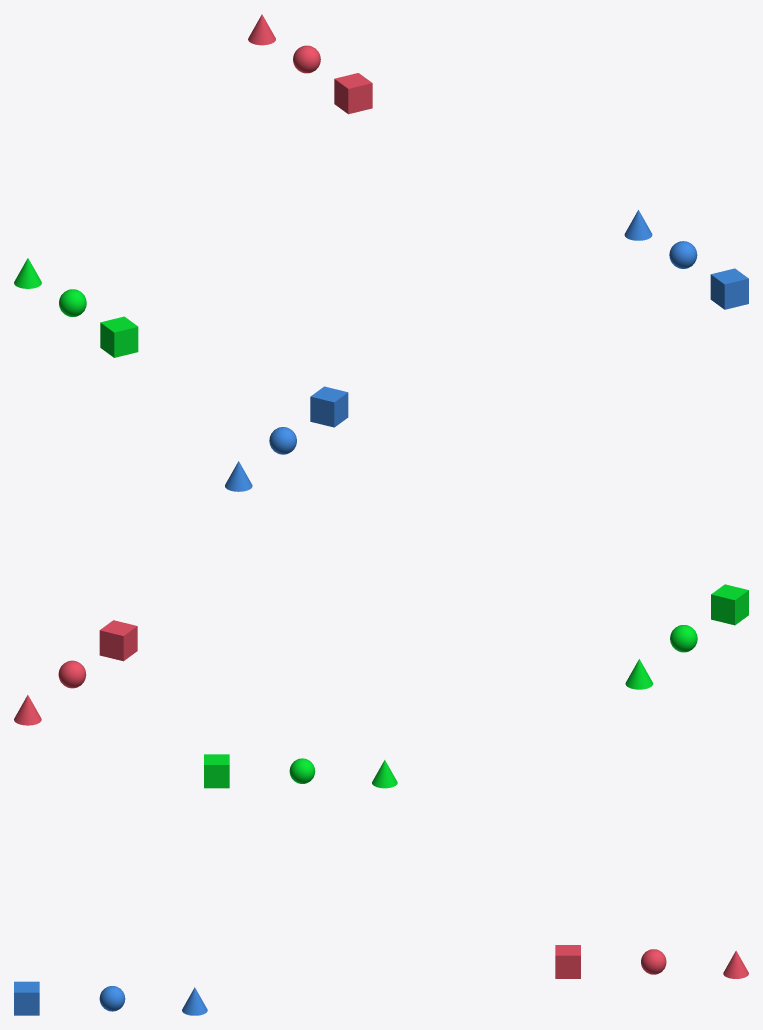
3 renders of one model, top to bottom at view 1: azimuth 30°, elevation 25°; view 2: azimuth 150°, elevation 25°; view 3: azimuth 270°, elevation 25°, orthographic. The views are drawn at different scales.
Parts seen in each view (by area): view 1: Cube.2, Cube.1, Cube, Sphere.2, Sphere.1, Sphere; view 2: Cube.1, Cube.2, Cube, Sphere.1, Sphere.2, Sphere; view 3: Cube.1, Cube, Cube.2, Sphere.2, Sphere.1, Sphere.
Part boxes in pixels (left/top/right/bottom): Cube.2: left=334, top=73, right=372, bottom=114; Cube.1: left=710, top=268, right=748, bottom=309; Cube: left=100, top=316, right=138, bottom=357; Sphere.2: left=293, top=45, right=320, bottom=73; Sphere.1: left=669, top=241, right=697, bottom=268; Sphere: left=59, top=289, right=86, bottom=316; Cube.1: left=310, top=386, right=348, bottom=427; Cube.2: left=99, top=620, right=137, bottom=661; Cube: left=711, top=584, right=748, bottom=625; Sphere.1: left=269, top=427, right=296, bottom=454; Sphere.2: left=58, top=660, right=86, bottom=688; Sphere: left=670, top=625, right=697, bottom=652; Cube.1: left=14, top=981, right=39, bottom=1015; Cube: left=204, top=754, right=229, bottom=788; Cube.2: left=555, top=945, right=580, bottom=978; Sphere.2: left=641, top=949, right=666, bottom=974; Sphere.1: left=99, top=986, right=125, bottom=1011; Sphere: left=289, top=758, right=315, bottom=783.
Size of the model in its own units: 21.93 by 1 by 28.58.
